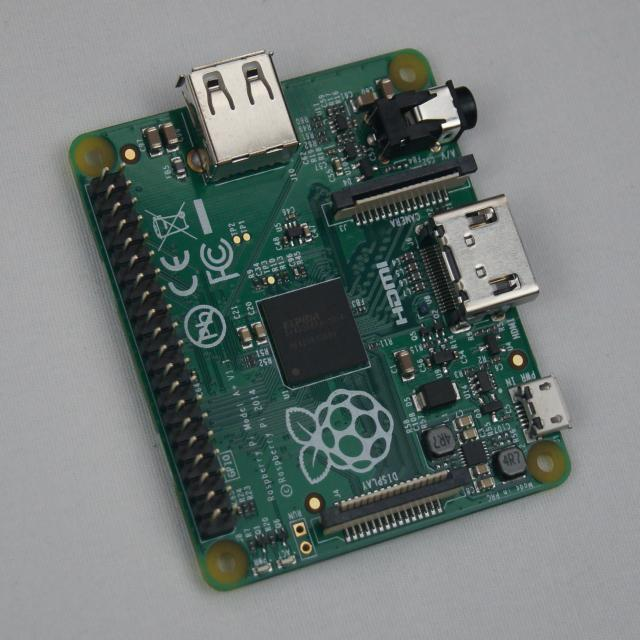Raspberry-Pi-1-A-: (72, 50, 570, 591)
